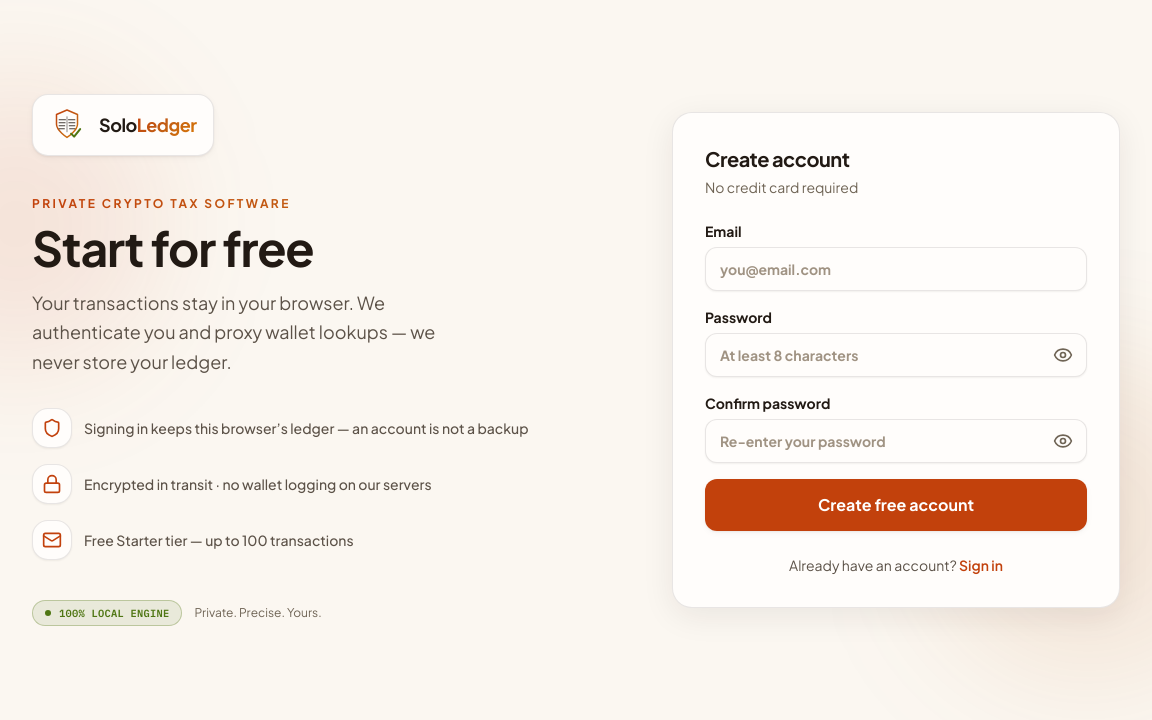
it: AuthPage › resets email/password and the mismatch error when switching modes
This screenshot has width=1152, height=720.
Type "user@example.com" into the field with placeholder "you@email.com". click: (896, 269)
box: [705, 247, 1087, 291]
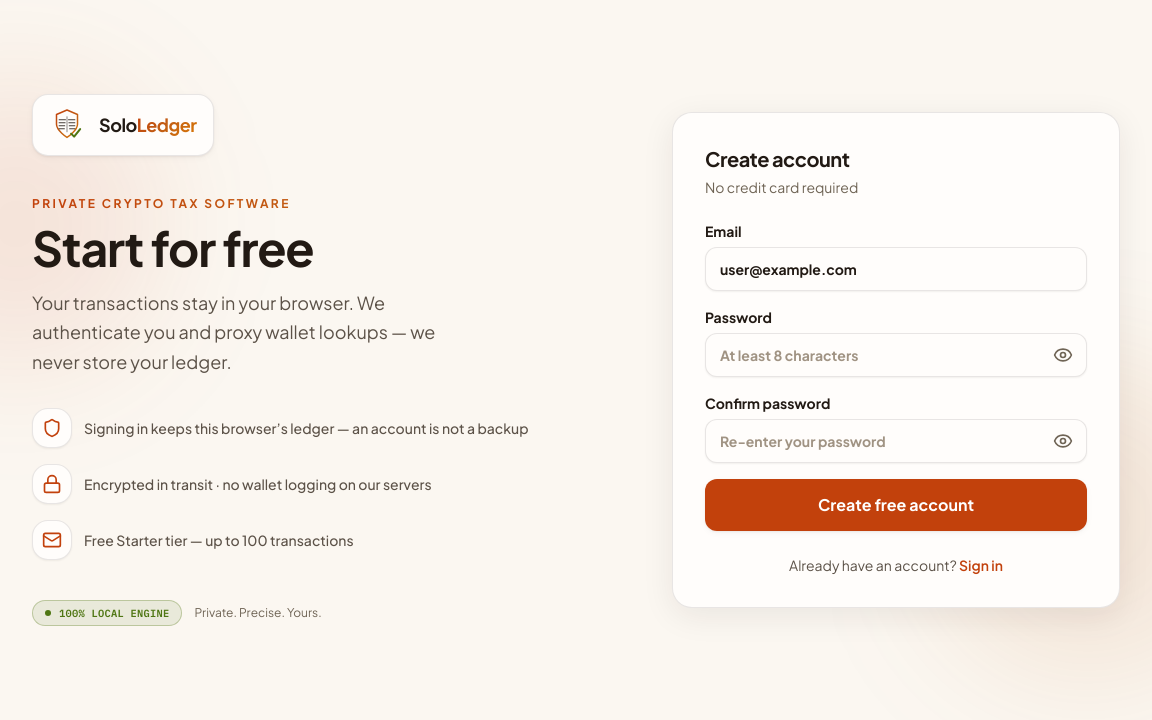
Type "password123" into the password field with placeholder "At least 8 characters". click: (896, 355)
box: [705, 333, 1087, 377]
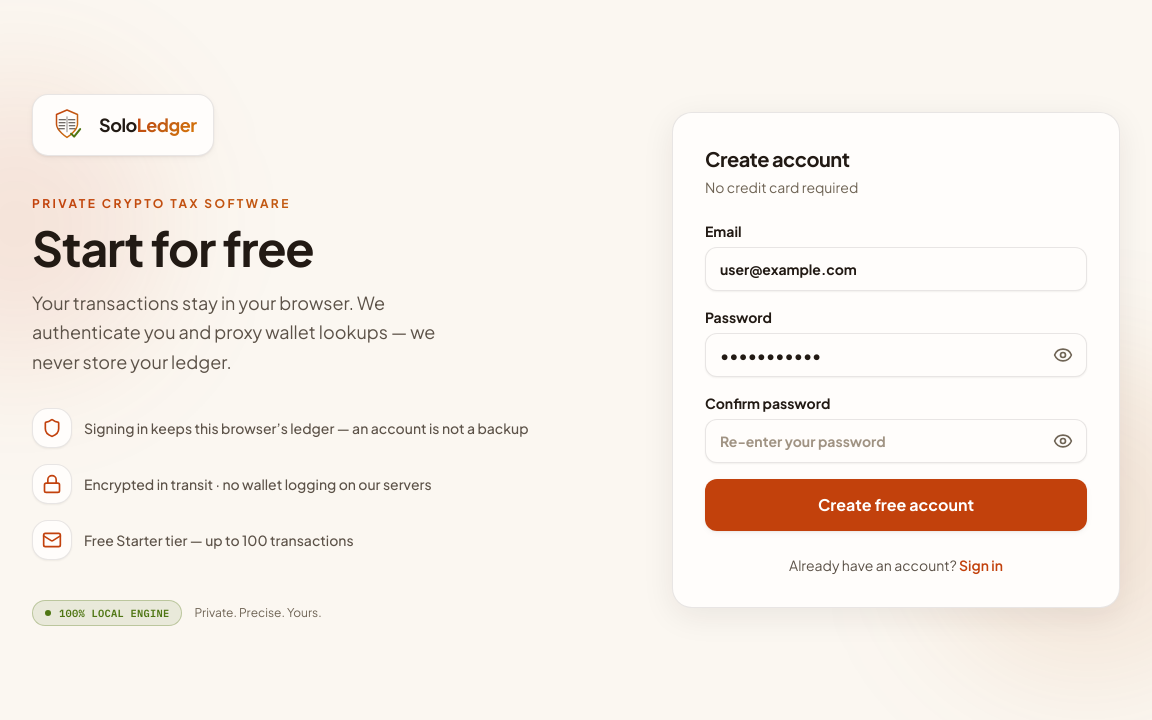
Type "nope" into the password field with placeholder "Re-enter your password". click: (896, 441)
box: [705, 419, 1087, 463]
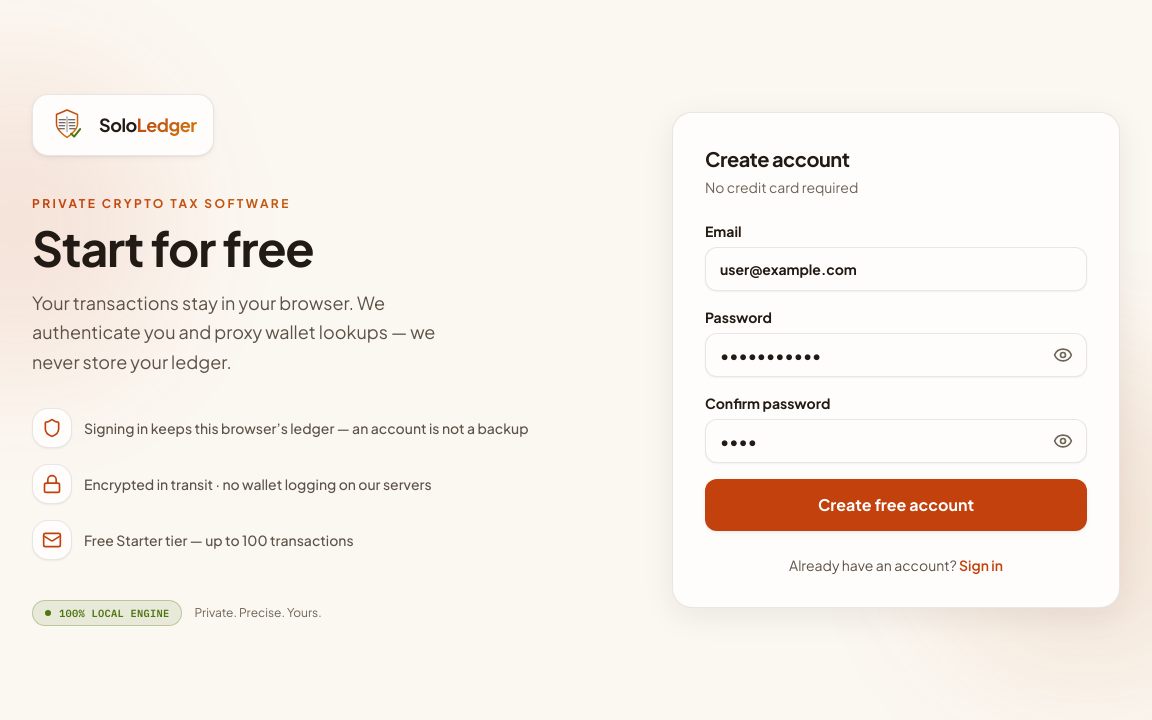
Click the button "Create free account". click: (896, 505)
box: [705, 479, 1087, 531]
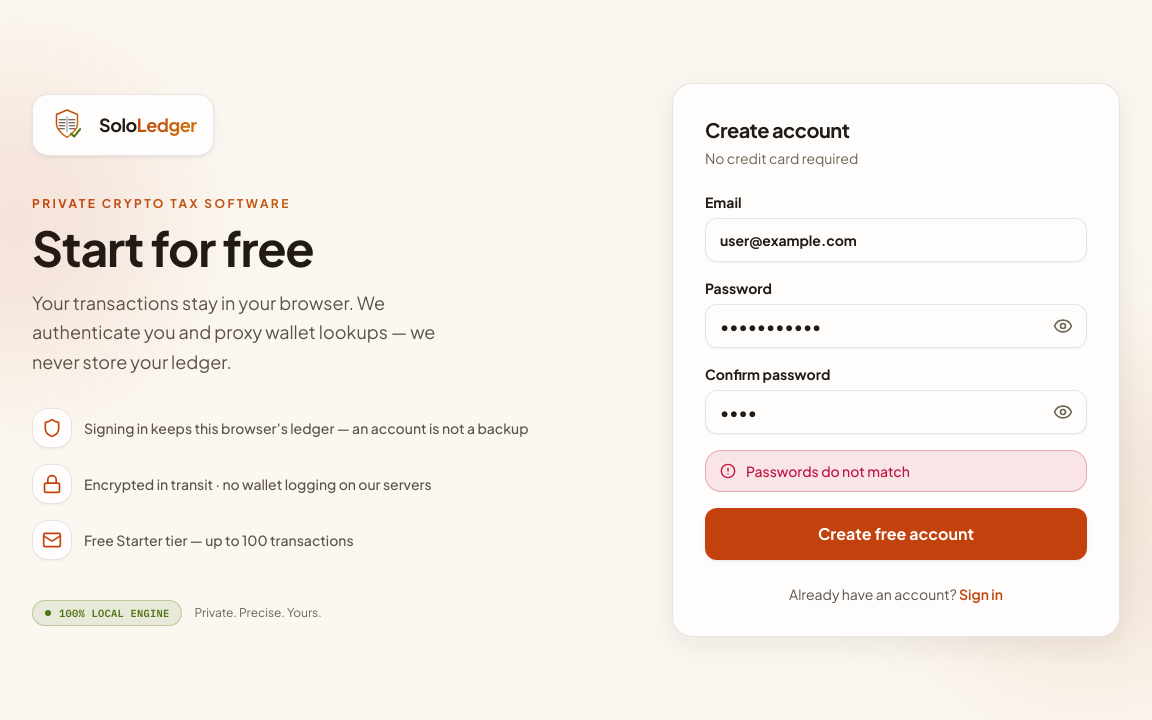
Now the text "Passwords do not match" is shown, box [746, 461, 910, 481]
Switch to sign-in: fields clear, error clears, confirm field is gone.
Click the button "Sign in". click: (981, 594)
box: [959, 584, 1003, 604]
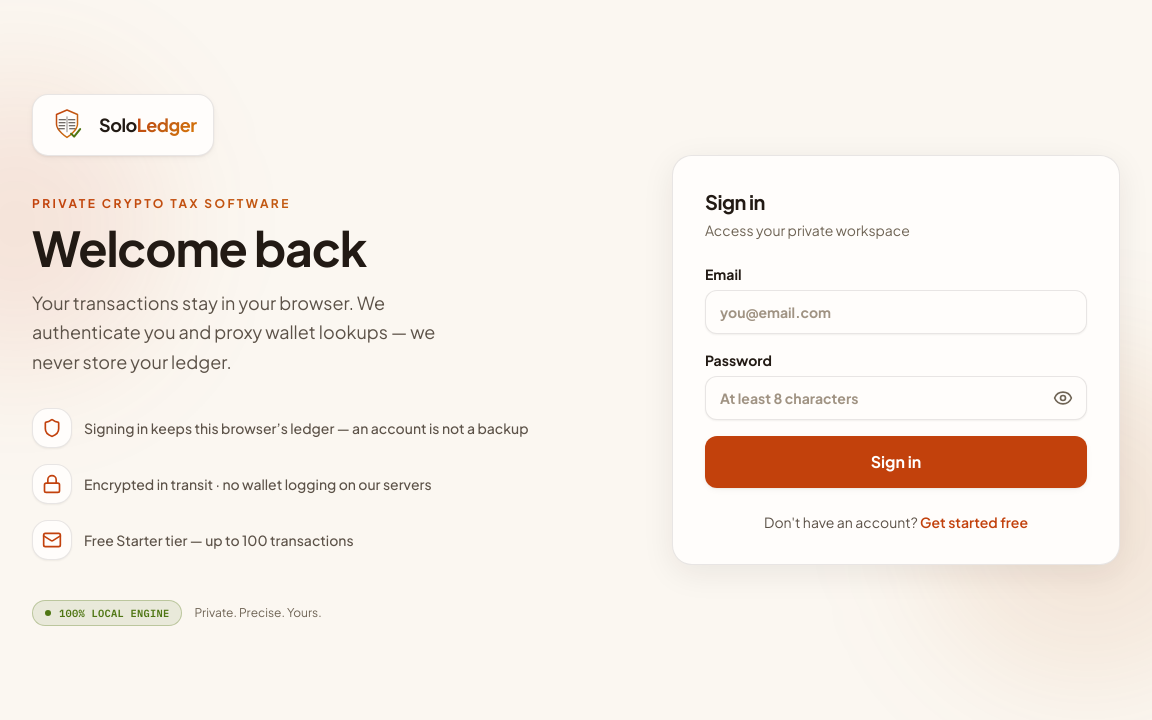
Now the text "Passwords do not match" is gone
Now the field with placeholder "you@email.com" is empty, box [705, 290, 1087, 334]
Now the password field with placeholder "At least 8 characters" is empty, box [705, 376, 1087, 420]
